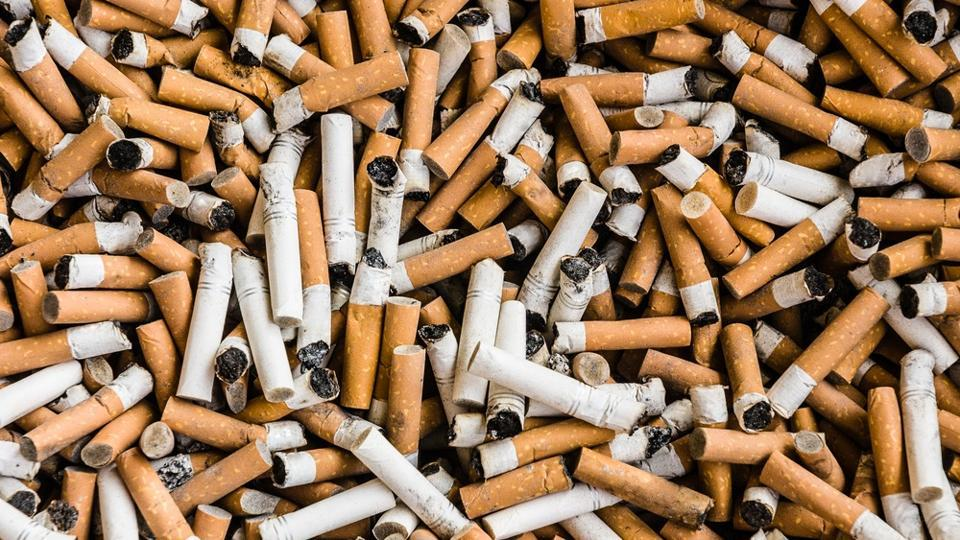cigarette: (448, 331, 630, 438), (723, 72, 882, 169), (636, 192, 725, 321), (315, 108, 369, 274), (339, 255, 392, 424)
